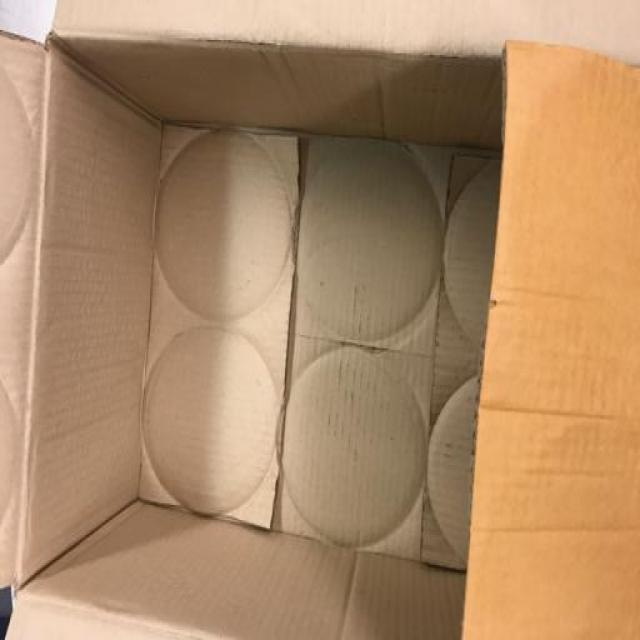cardboard paper: (1, 0, 640, 640)
